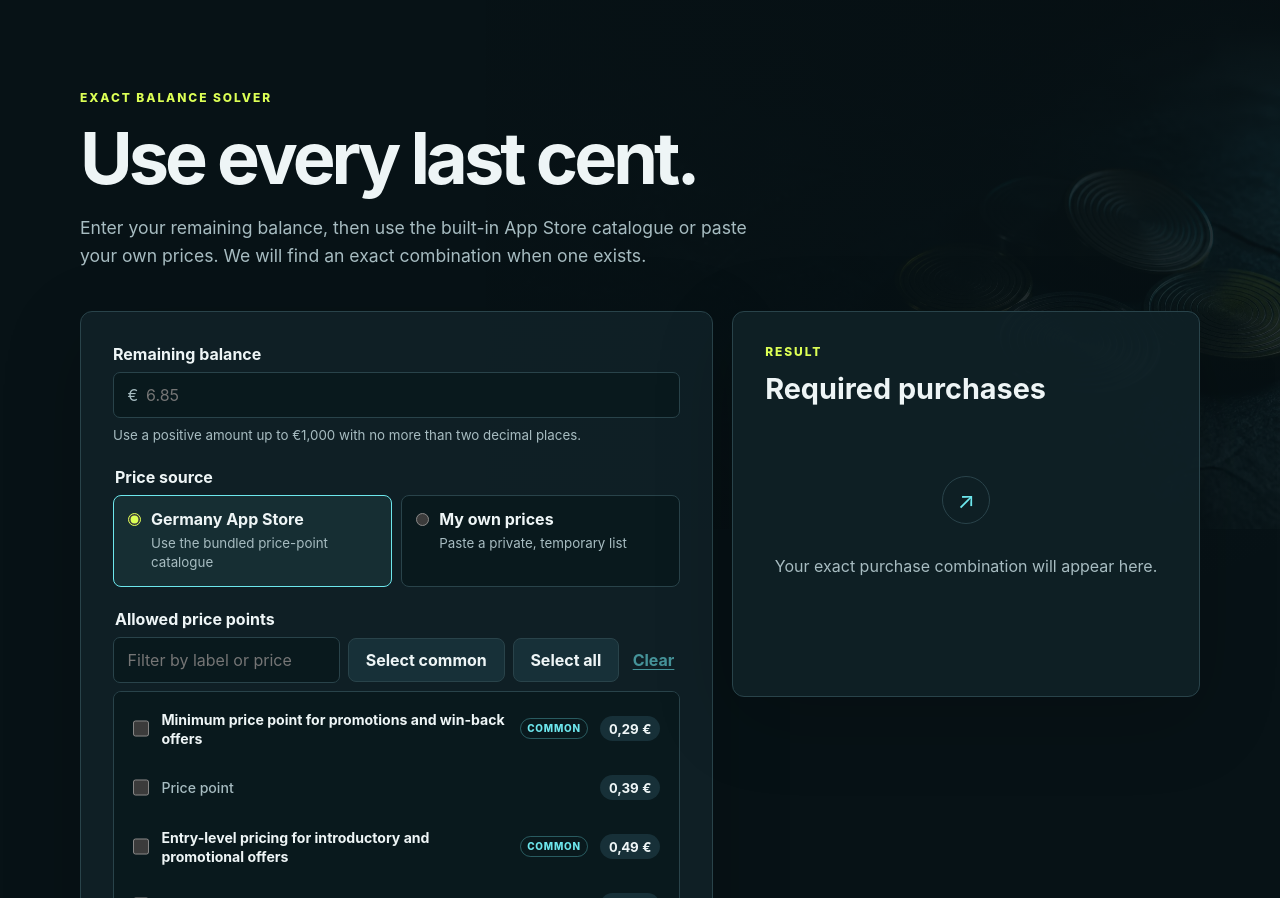
Test case: balance solver view › renders an actionable message when no exact solution exists
The image size is (1280, 898).
Type "1.98" into the field with id "balance". click: (396, 395)
box: [113,372,680,418]
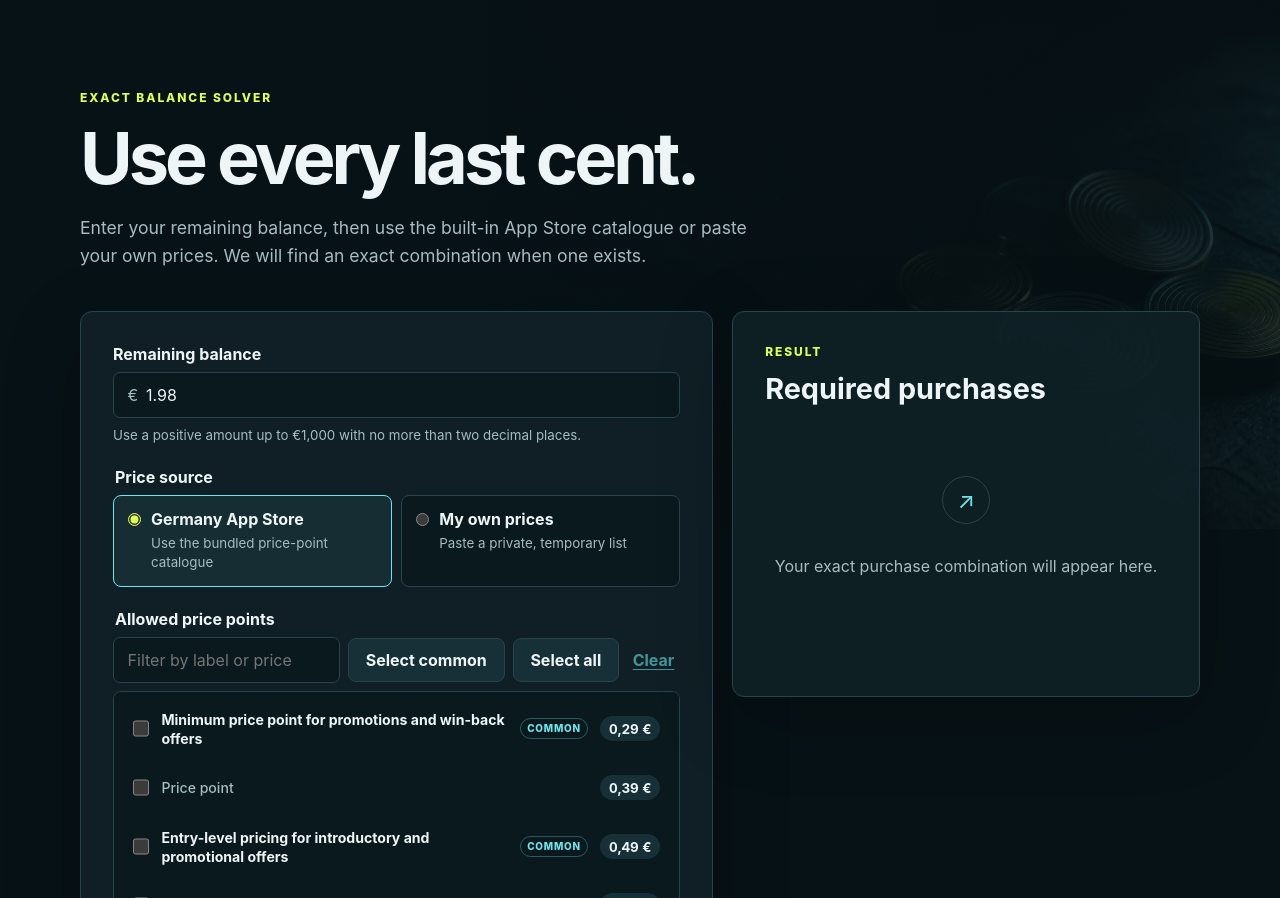
Click the button "Select all". click: (566, 660)
box: [513,638,619,682]
(page scrolled)
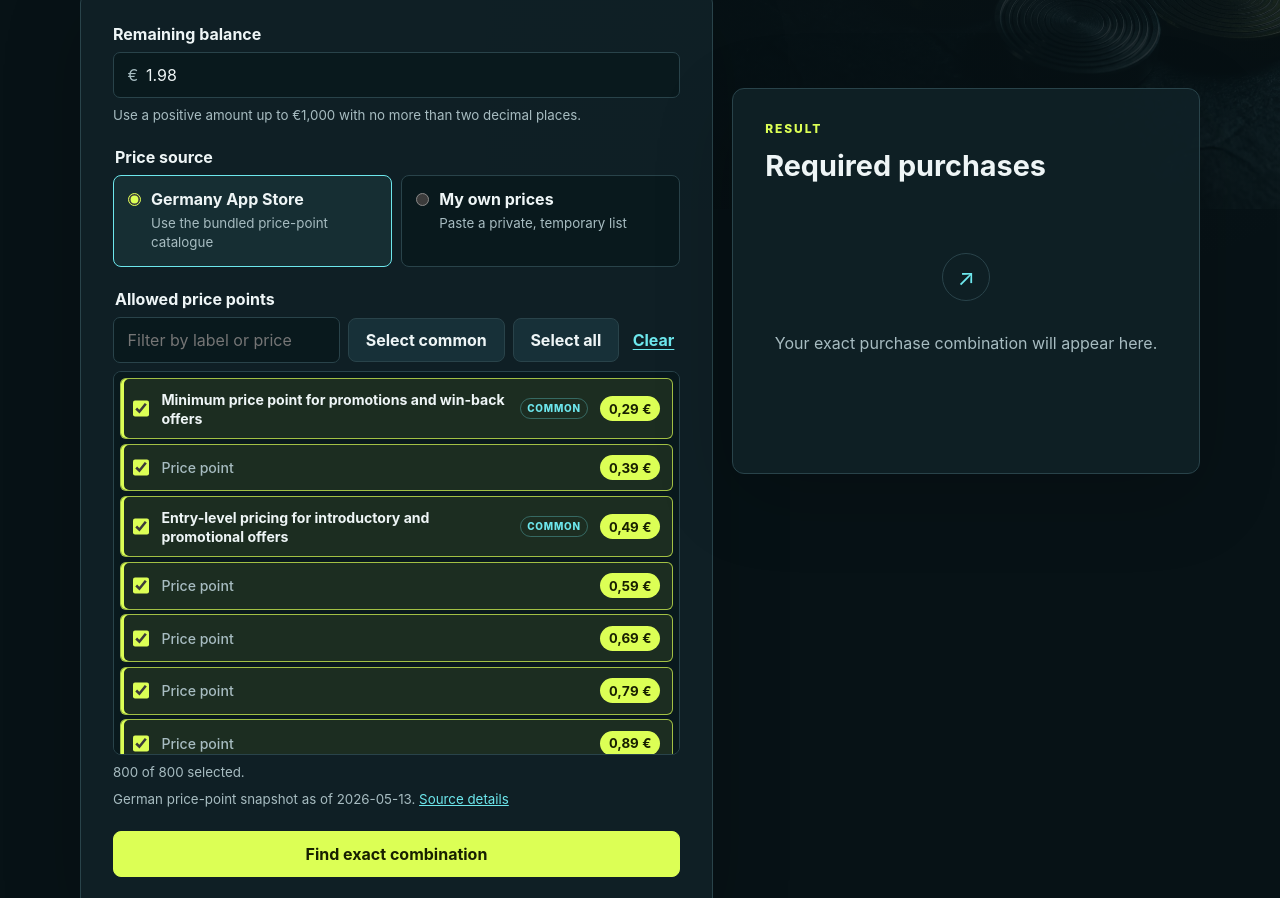
Submit the form
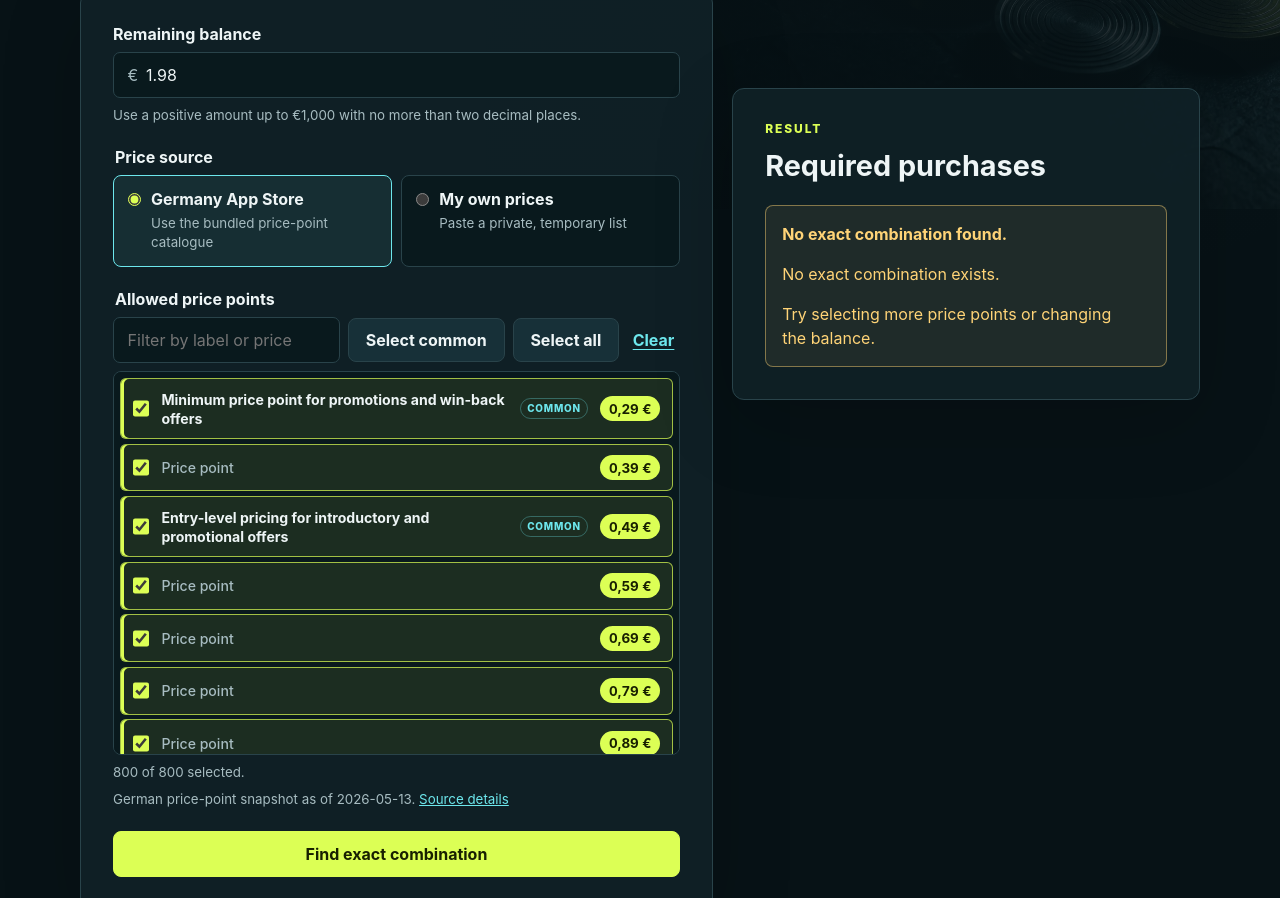
Check: the text "No exact combination found." is shown, box [782,224,1007,244]
Check: the text "Try selecting more price points" is shown, box [782,304,1111,348]
